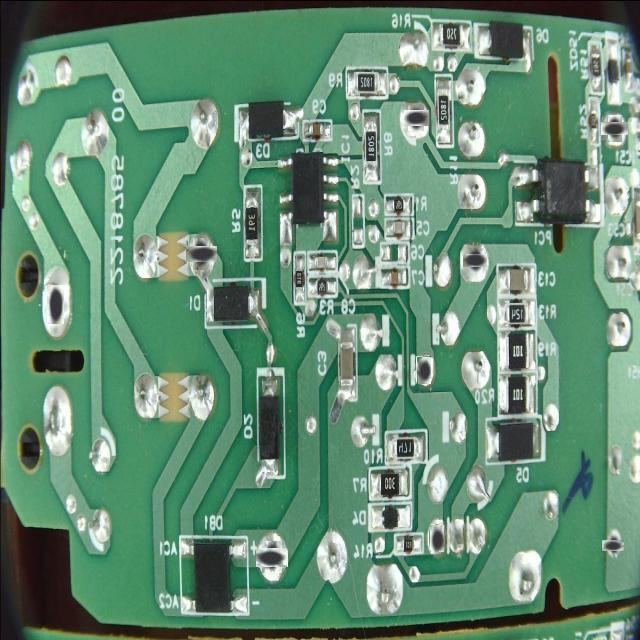damged: (46, 284, 64, 324), (259, 544, 285, 570), (189, 242, 213, 266), (605, 118, 625, 139), (429, 524, 444, 552), (416, 356, 431, 384), (465, 250, 485, 270), (406, 108, 426, 128), (605, 536, 622, 554)
